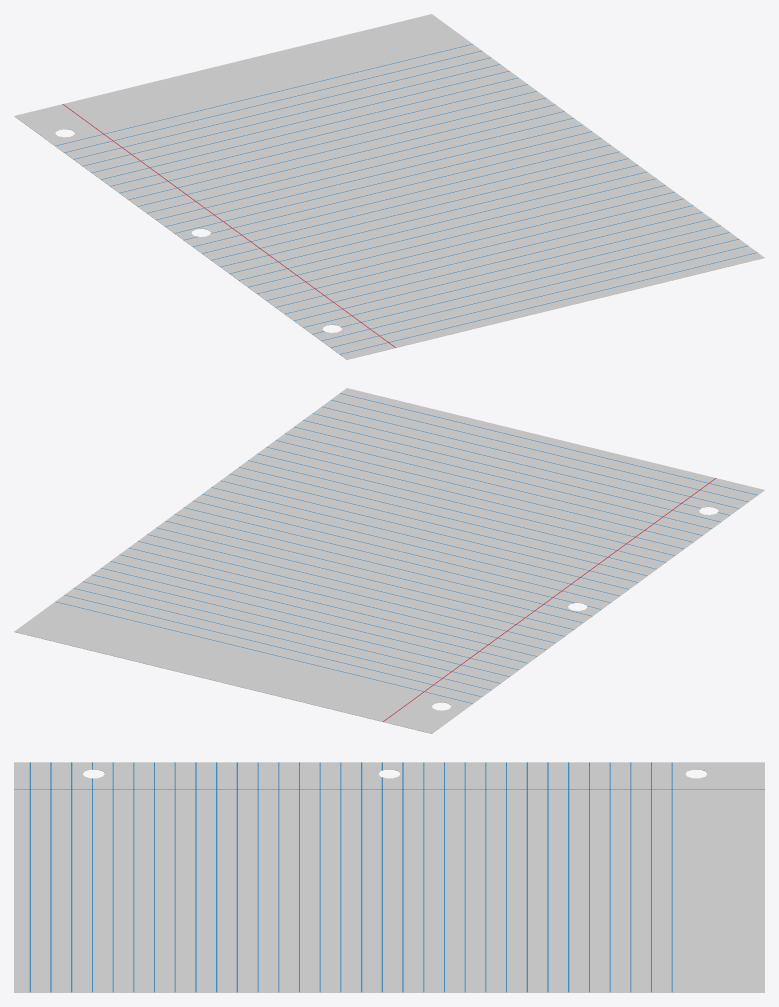
The model's file is Paper_2.fbx.
The picture shows the model from 3 angles, top to bottom: view 1: azimuth 30°, elevation 25°; view 2: azimuth 150°, elevation 25°; view 3: azimuth 270°, elevation 25°; orthographic projection. The views are drawn at different scales.
Parts seen in each view (by area): view 1: Model; view 2: Model; view 3: Model.
Boxes of the visible parts, x1,y1,x2,y2 form: Model: (14, 14, 764, 359); Model: (14, 388, 764, 733); Model: (14, 762, 764, 992).
Bounding box in the file's own units: 19.21 × 0.00992 × 26.51.
